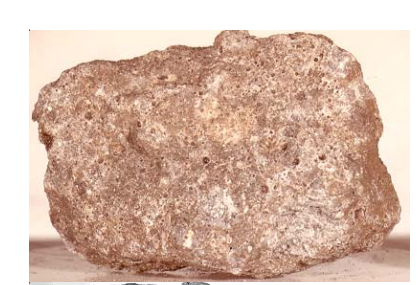Breccia: (30, 27, 407, 274)
